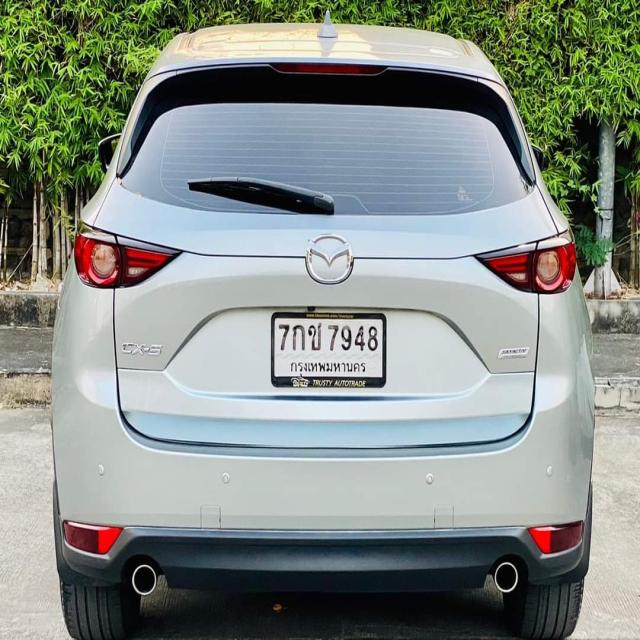license_plate: (269, 307, 388, 394)
